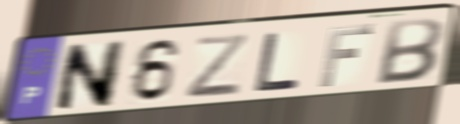6: (127, 37, 180, 105)
B: (372, 16, 446, 86)
F: (317, 22, 377, 89)
L: (252, 30, 304, 95)
N: (52, 38, 128, 115)
Z: (183, 32, 251, 100)
